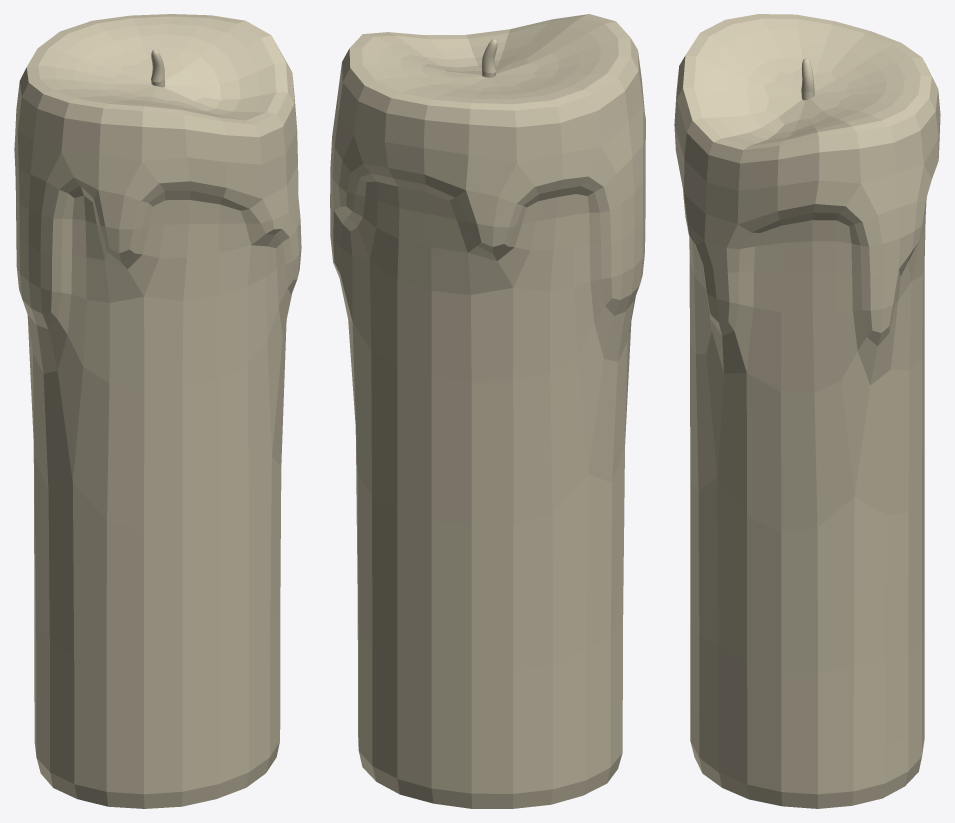
Rendered from CandleSkinnyShort.fbx.
3 renders of one model, left to right at view 1: azimuth 30°, elevation 25°; view 2: azimuth 150°, elevation 25°; view 3: azimuth 270°, elevation 25°, orthographic. The views are drawn at different scales.
Parts seen in each view (by area): view 1: SkinnyShortCandle; view 2: SkinnyShortCandle; view 3: SkinnyShortCandle.
Part boxes in pixels (x1,y1,x2,y2): SkinnyShortCandle: [14, 14, 301, 808]; SkinnyShortCandle: [330, 14, 645, 808]; SkinnyShortCandle: [674, 14, 940, 808].
Bounding box in the file's own units: 6.96 × 18.1 × 6.19.
